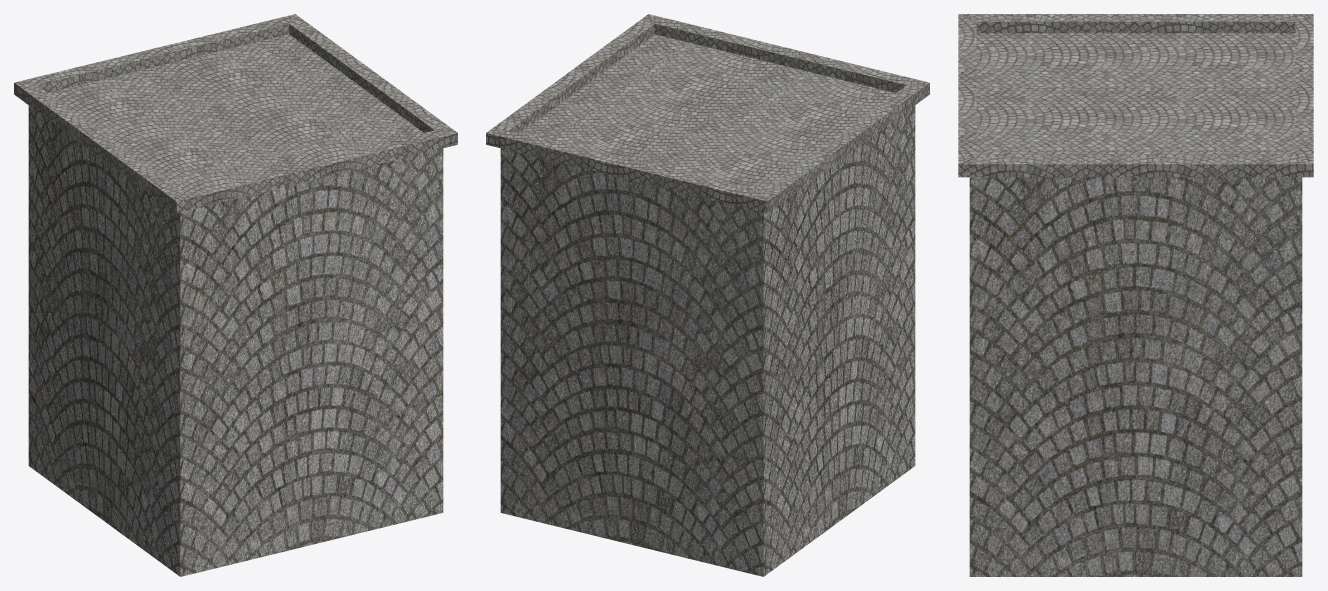
File: binasdiüüptrert.fbx
3 renders of one model, left to right at view 1: azimuth 30°, elevation 25°; view 2: azimuth 150°, elevation 25°; view 3: azimuth 270°, elevation 25°, orthographic. The views are drawn at different scales.
Parts seen in each view (by area): view 1: Cube; view 2: Cube; view 3: Cube.
Part boxes in pixels (bbox=[...]): Cube: bbox=[14, 14, 457, 576]; Cube: bbox=[486, 14, 929, 576]; Cube: bbox=[958, 14, 1313, 576].
Bounding box in the file's own units: 214 × 277 × 214.
